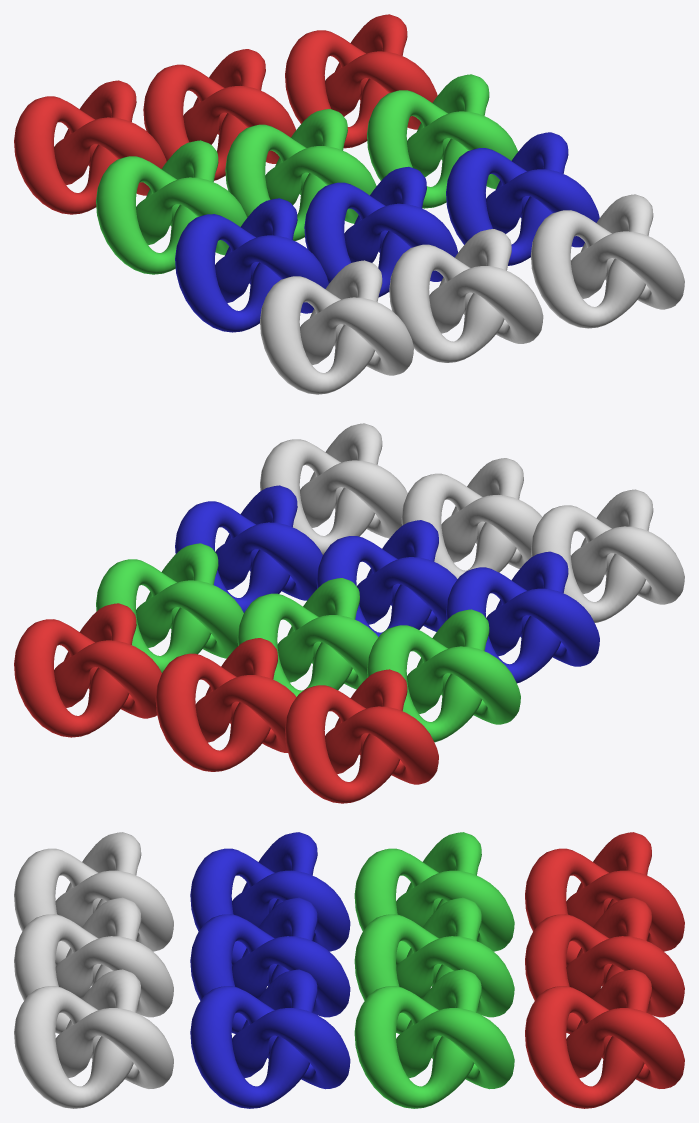
3 renders of one model, top to bottom at view 1: azimuth 30°, elevation 25°; view 2: azimuth 150°, elevation 25°; view 3: azimuth 270°, elevation 25°, orthographic. The views are drawn at different scales.
Visible parts, largest first — view 1: Torus Knot001; view 2: Torus Knot001; view 3: Torus Knot001.
Part boxes in pixels (x1,y1,x2,y2): Torus Knot001: (14,14,684,394); Torus Knot001: (14,423,684,803); Torus Knot001: (14,832,684,1108).
Bounding box in the file's own units: 9.48 × 2.15 × 13.33.
